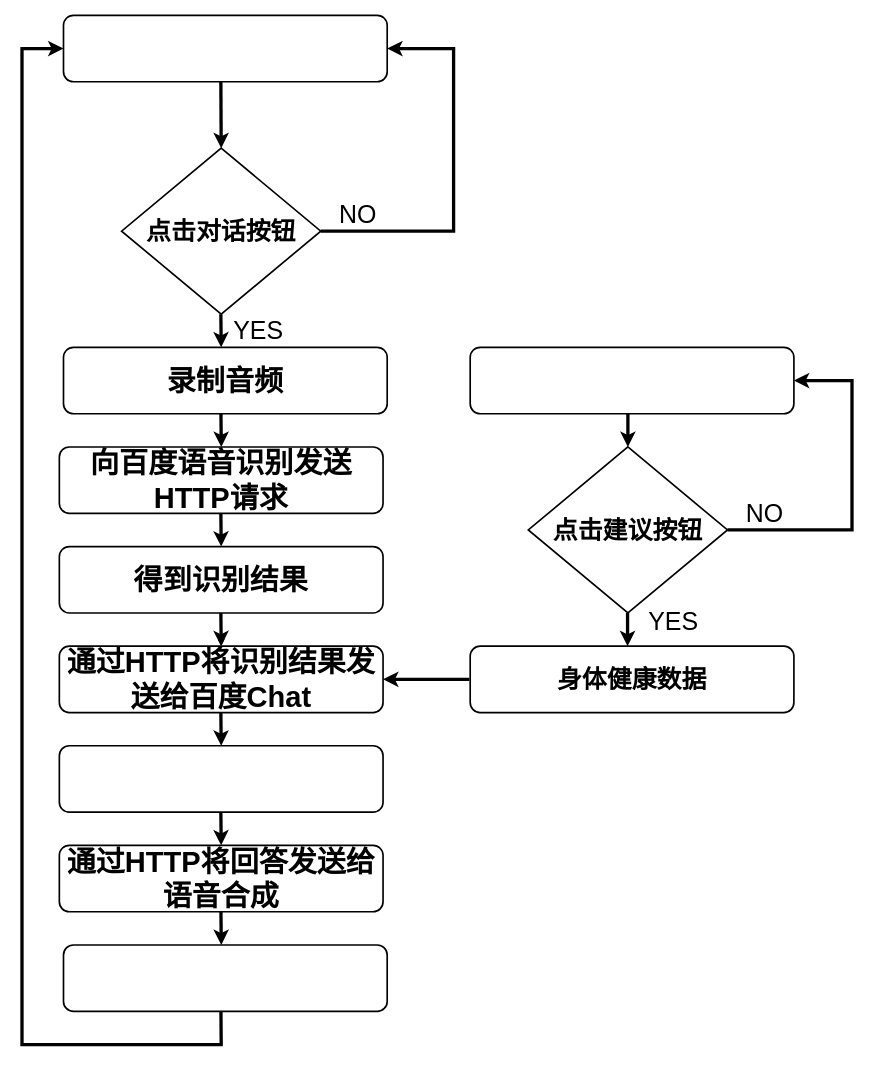
This 874x1067 diagram has some shape labels left out. Each missing label, with the box of its shape:
AI对话: (62, 14, 388, 82)
AI建议: (469, 346, 794, 414)
得到合成音频进行播放: (62, 944, 388, 1012)
得到回答: (58, 745, 383, 813)
